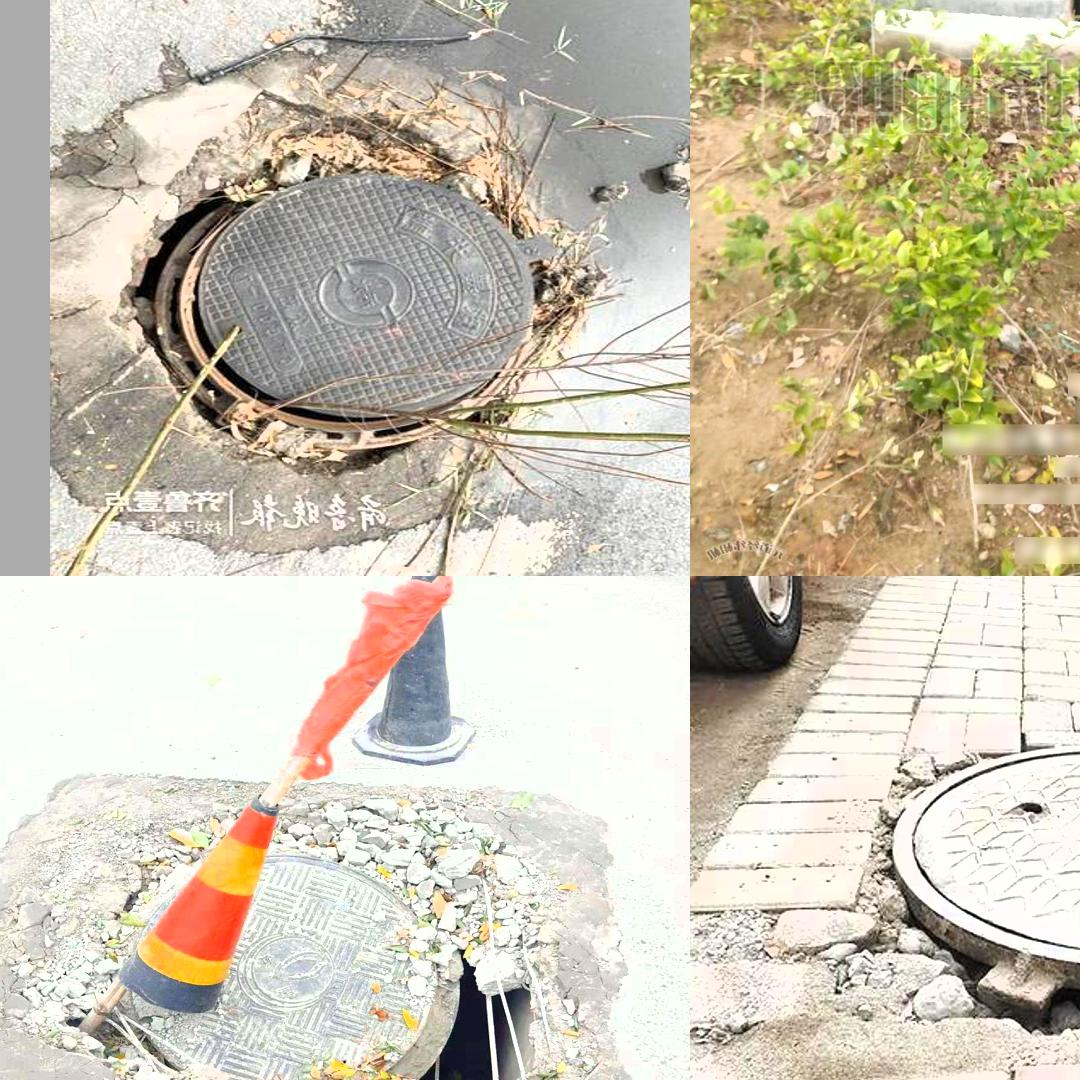circle: (58, 44, 625, 543), (92, 847, 540, 1080), (808, 726, 1080, 1080), (845, 0, 1080, 47)
